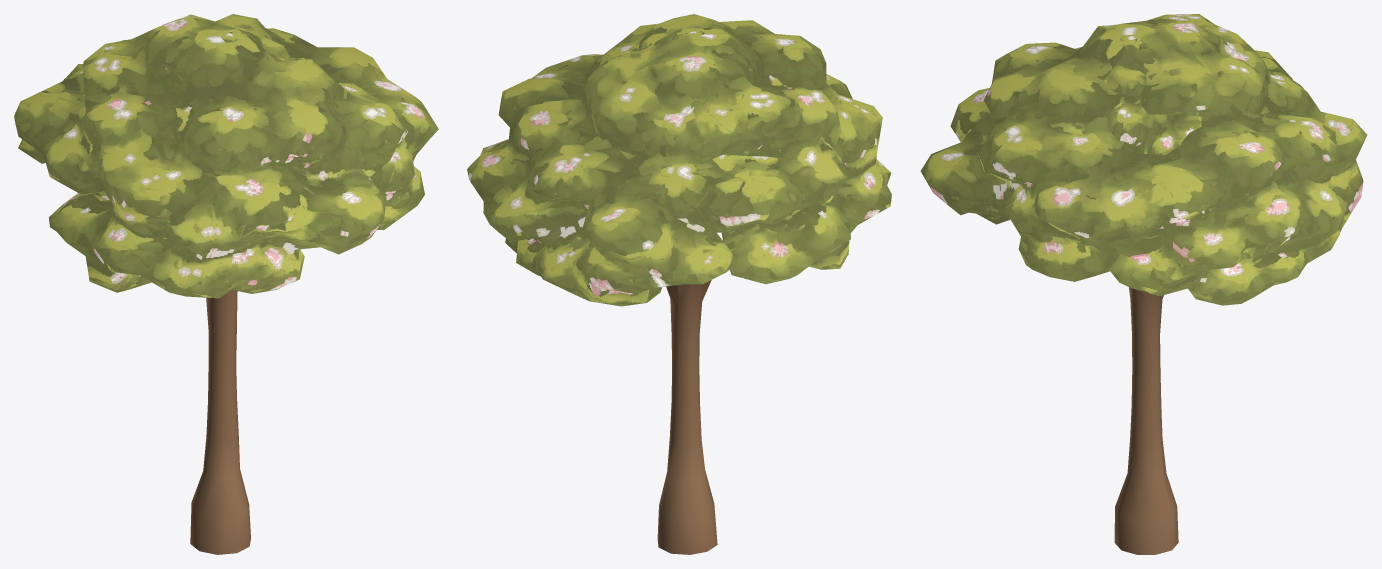
The model's file is tree_round_b.glb.
3 views of the same model, side by side, from view 1: azimuth 30°, elevation 25°; view 2: azimuth 150°, elevation 25°; view 3: azimuth 270°, elevation 25° (orthographic).
Visible parts, largest first — view 1: body; view 2: body; view 3: body.
Boxes of the visible parts, bbox=[...] form: body: bbox=[14, 14, 438, 554]; body: bbox=[467, 14, 891, 554]; body: bbox=[920, 14, 1367, 554].
Size of the model in its own units: 3.07 by 4.38 by 3.5.
2 materials, 2 textured.
